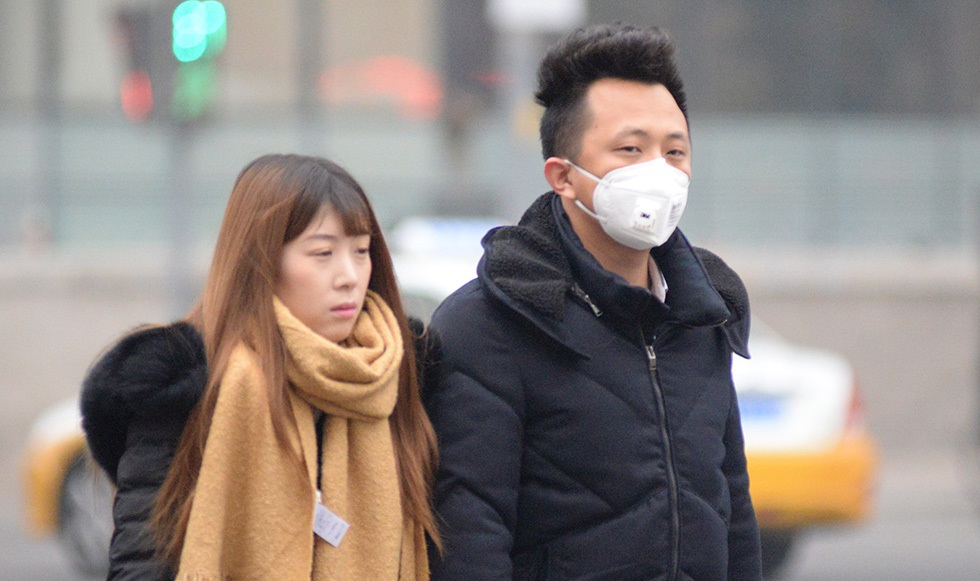face: (274, 221, 371, 341)
face_mask: (589, 97, 689, 253)
